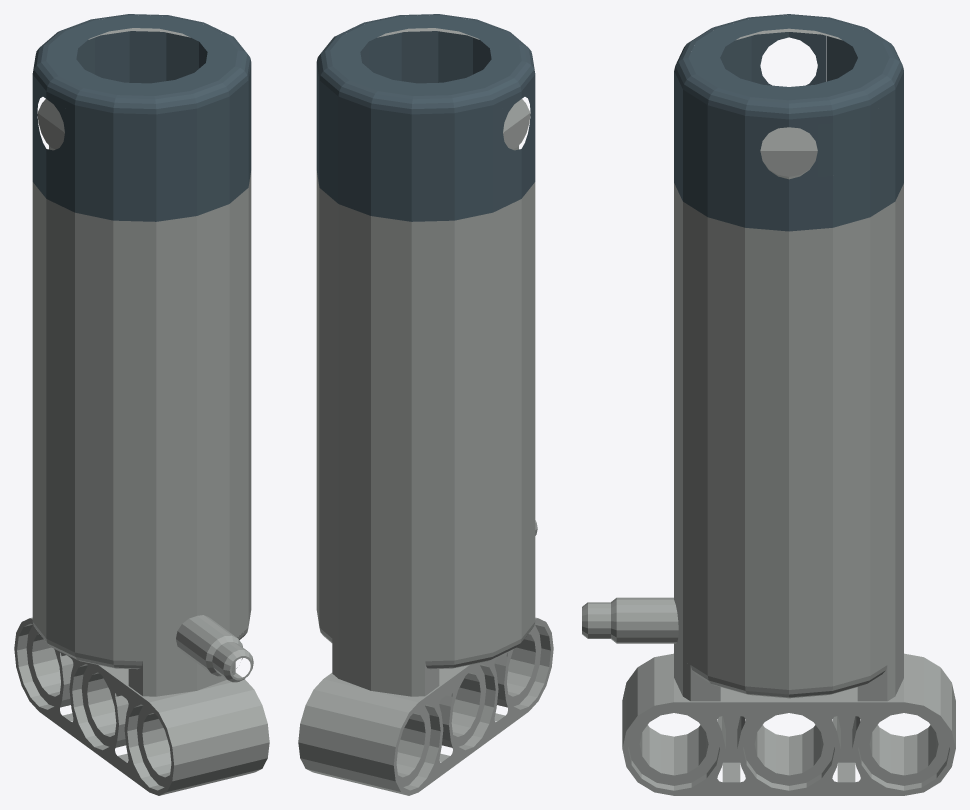
3 renders of one model, left to right at view 1: azimuth 30°, elevation 25°; view 2: azimuth 150°, elevation 25°; view 3: azimuth 270°, elevation 25°, orthographic. The views are drawn at different scales.
Parts seen in each view (by area): view 1: world; view 2: world; view 3: world.
Part boxes in pixels (<box>): world: <box>14,14,269,795</box>; world: <box>298,14,553,795</box>; world: <box>582,14,955,795</box>.
Bounding box in the file's own units: 0.016 × 0.0548 × 0.026.
